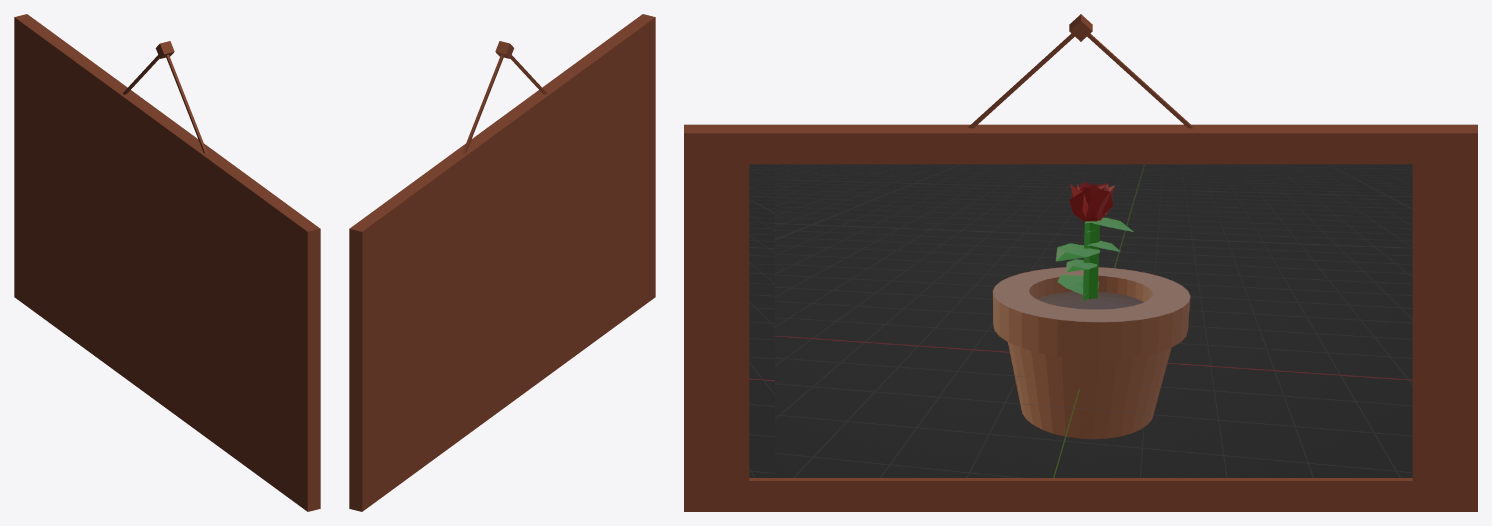
File: picture frame.fbx
The picture shows the model from 3 angles, left to right: view 1: azimuth 30°, elevation 25°; view 2: azimuth 150°, elevation 25°; view 3: azimuth 270°, elevation 25°; orthographic projection. The views are drawn at different scales.
Visible parts, largest first — view 1: Cube; view 2: Cube; view 3: Cube.
Part boxes in pixels (<box>): Cube: <box>14,14,320,511</box>; Cube: <box>349,14,655,511</box>; Cube: <box>684,14,1477,511</box>.
Size of the model in its own units: 15.39 by 380 by 560.
